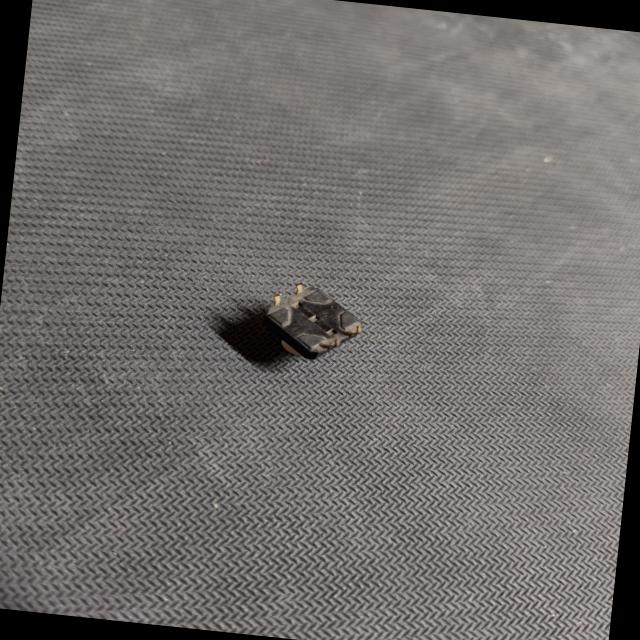switch: (236, 272, 377, 377)
